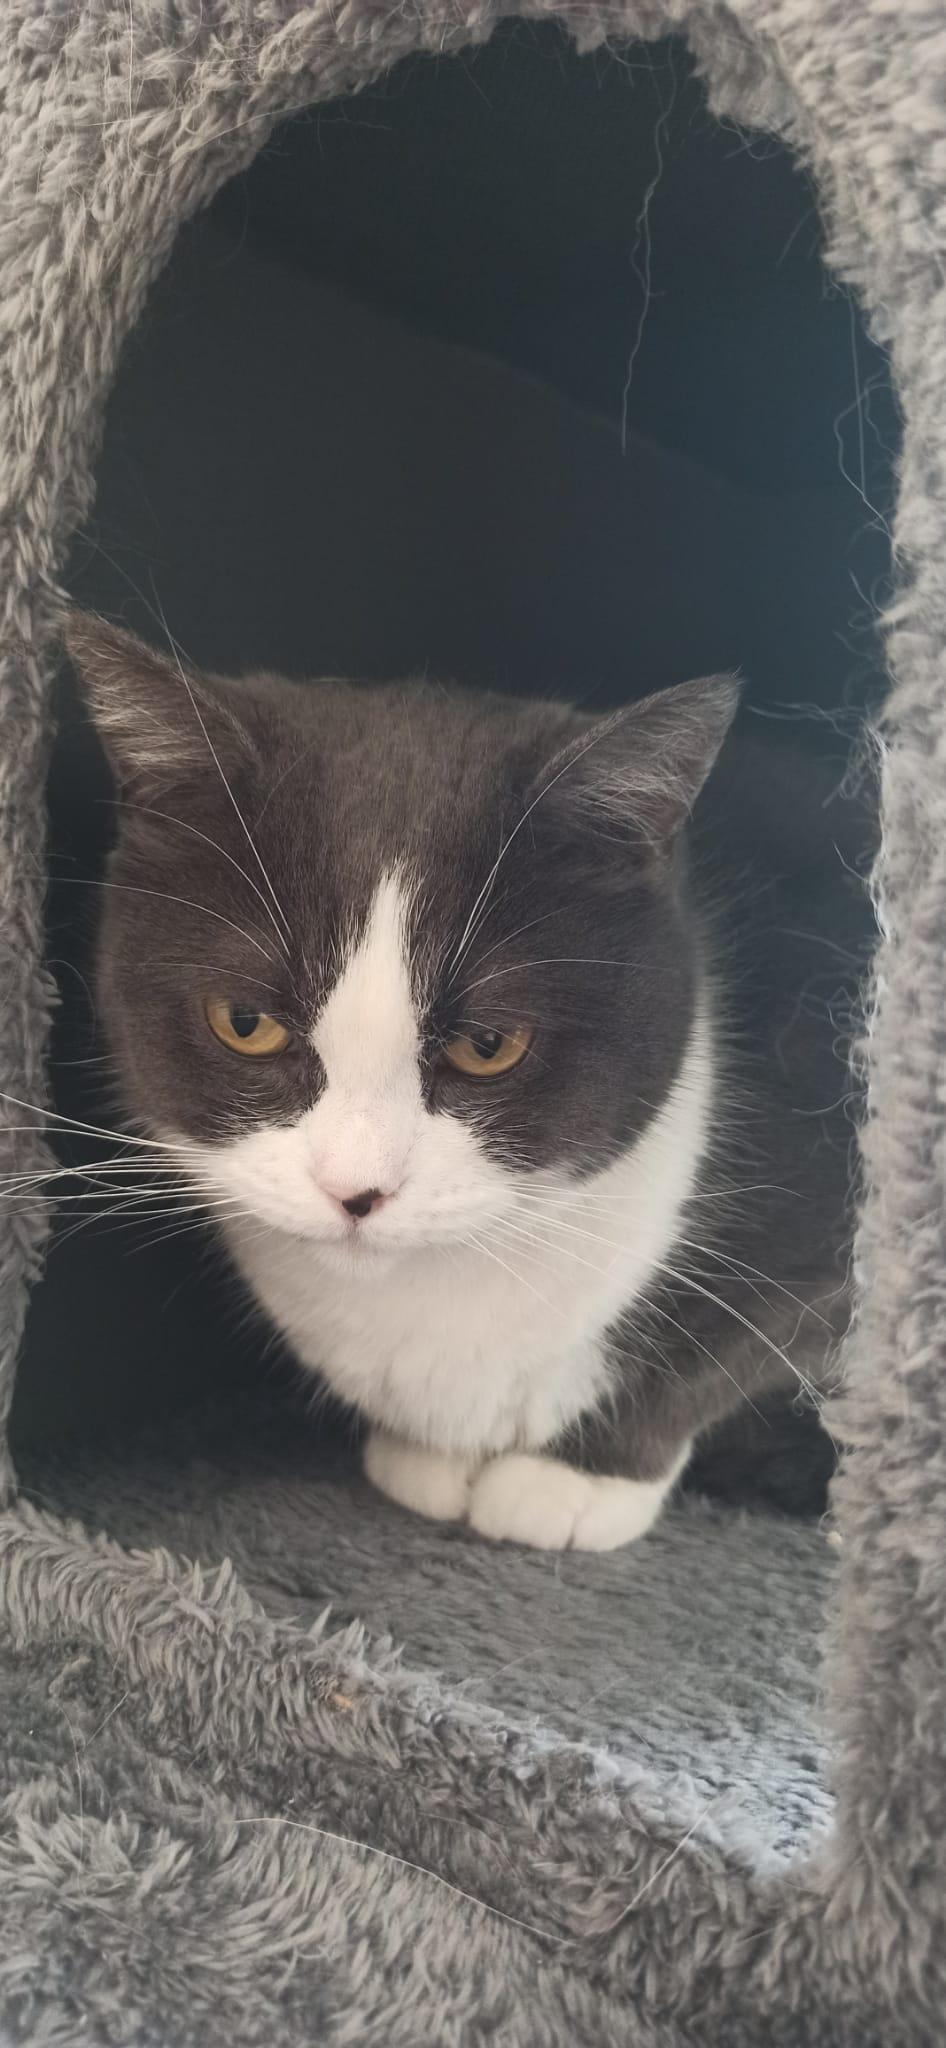kedo: (54, 607, 831, 1552)
